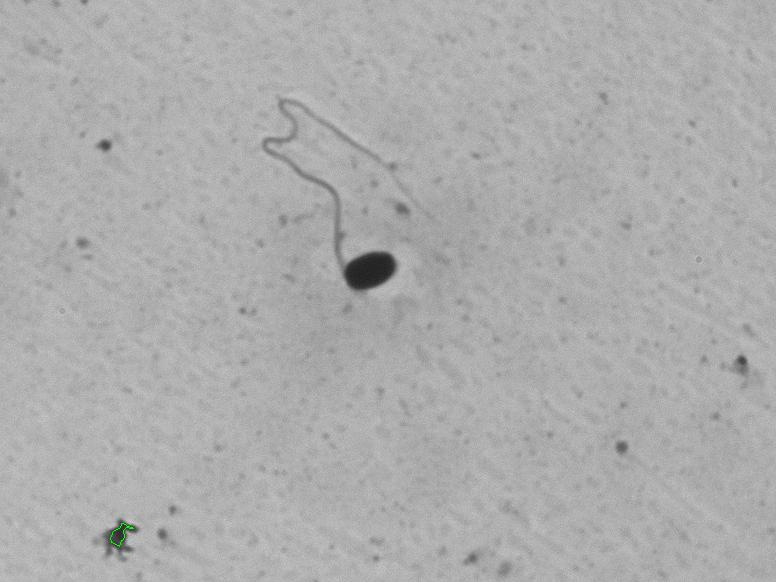Abnormal: (188, 66, 463, 347)
